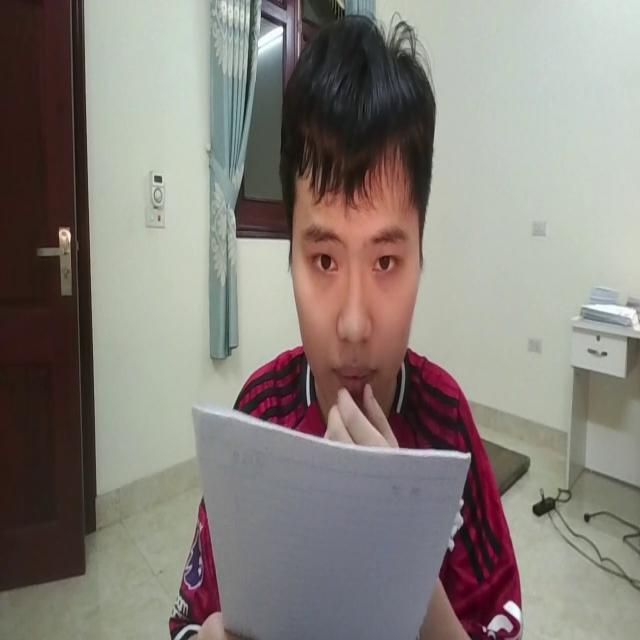book: (189, 393, 472, 640)
student: (173, 9, 521, 640)
